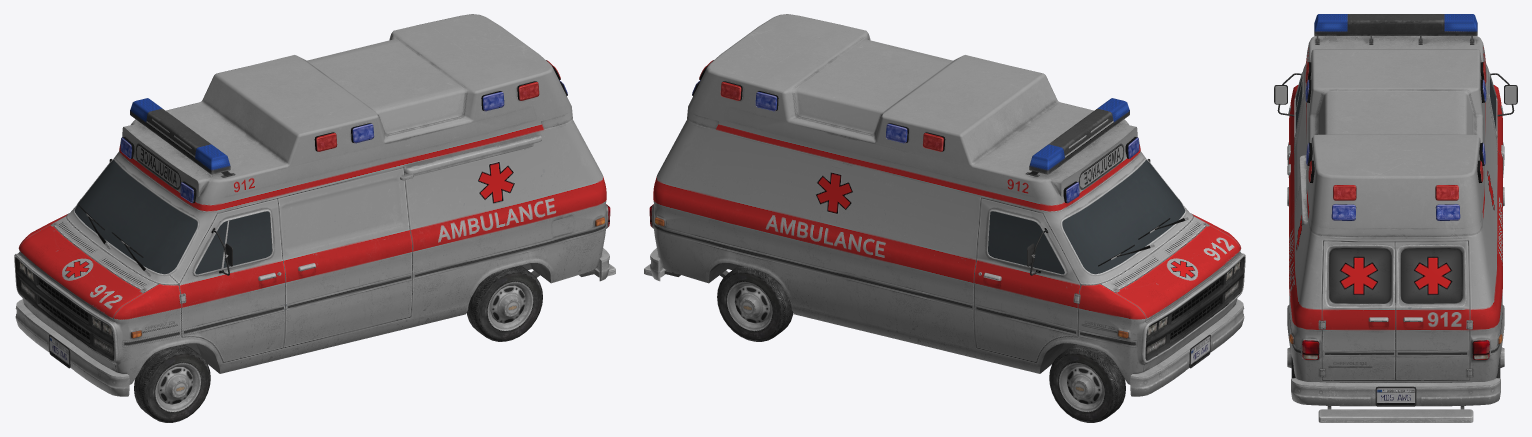
Rendered from HH_Ambulance_Car.fbx.
3 views of the same model, side by side, from view 1: azimuth 30°, elevation 25°; view 2: azimuth 150°, elevation 25°; view 3: azimuth 270°, elevation 25° (orthographic).
Parts seen in each view (by area): view 1: HH_Ambulance_Car_LOD0, HH_Ambulance_Car_Wheel_01_LOD0, HH_Ambulance_Car_Wheel_02_LOD0; view 2: HH_Ambulance_Car_LOD0, HH_Ambulance_Car_Wheel_04_LOD0, HH_Ambulance_Car_Wheel_03_LOD0; view 3: HH_Ambulance_Car_LOD0.
Part boxes in pixels (x1,y1,x2,y2): HH_Ambulance_Car_LOD0: (14,14,615,396); HH_Ambulance_Car_Wheel_01_LOD0: (134,344,210,422); HH_Ambulance_Car_Wheel_02_LOD0: (466,265,542,341); HH_Ambulance_Car_LOD0: (644,14,1245,396); HH_Ambulance_Car_Wheel_04_LOD0: (1049,344,1125,422); HH_Ambulance_Car_Wheel_03_LOD0: (717,265,793,341); HH_Ambulance_Car_LOD0: (1274,14,1517,422).
Size of what is drawn, in the model's own units: 426 by 195 by 174.
